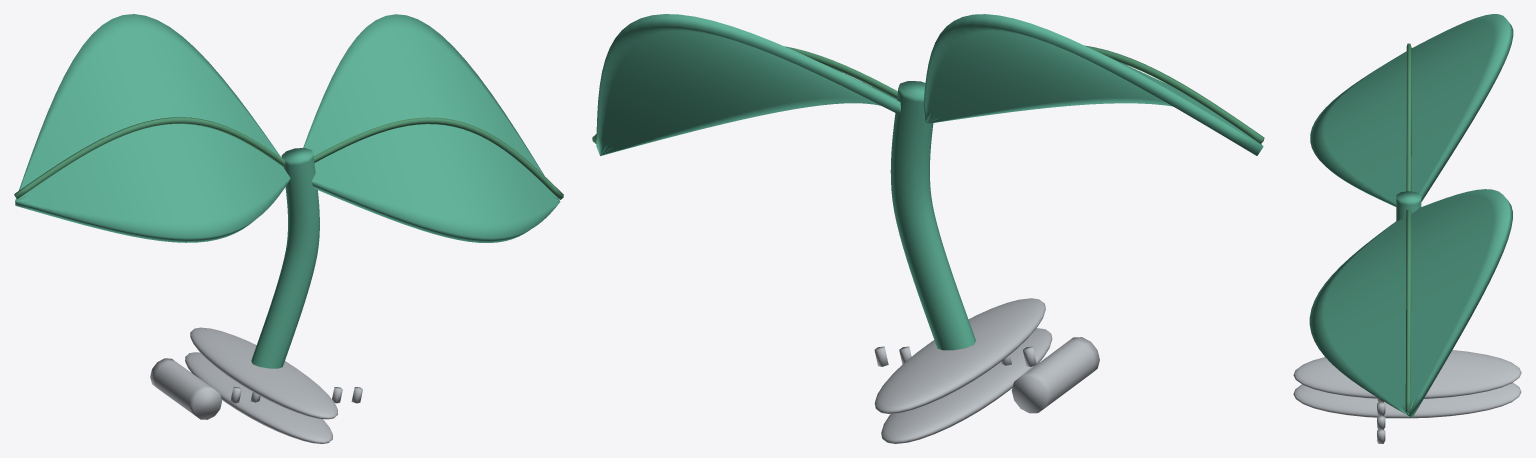
File: Feminine-ponytail-pashmina251-sprout.glb
3 renders of one model, left to right at view 1: azimuth 30°, elevation 25°; view 2: azimuth 150°, elevation 25°; view 3: azimuth 270°, elevation 25°, orthographic. The views are drawn at different scales.
Parts seen in each view (by area): view 1: 226 extra / Accessory / mint226, 226 extra / Sprout / clip silver235, 226 extra / Sprout / leaf vein235; view 2: 226 extra / Accessory / mint226, 226 extra / Sprout / clip silver235, 226 extra / Sprout / leaf vein235; view 3: 226 extra / Accessory / mint226, 226 extra / Sprout / clip silver235, 226 extra / Sprout / leaf vein235.
Boxes of the visible parts, left/top/right/bottom form: 226 extra / Accessory / mint226: left=15, top=14, right=560, bottom=368; 226 extra / Sprout / clip silver235: left=150, top=327, right=362, bottom=443; 226 extra / Sprout / leaf vein235: left=14, top=117, right=563, bottom=199; 226 extra / Accessory / mint226: left=596, top=14, right=1263, bottom=350; 226 extra / Sprout / clip silver235: left=874, top=298, right=1099, bottom=443; 226 extra / Sprout / leaf vein235: left=592, top=45, right=1264, bottom=143; 226 extra / Accessory / mint226: left=1309, top=14, right=1513, bottom=417; 226 extra / Sprout / clip silver235: left=1293, top=350, right=1521, bottom=443; 226 extra / Sprout / leaf vein235: left=1405, top=43, right=1411, bottom=412.
Bounding box in the file's own units: 0.2646 × 0.1736 × 0.104.
